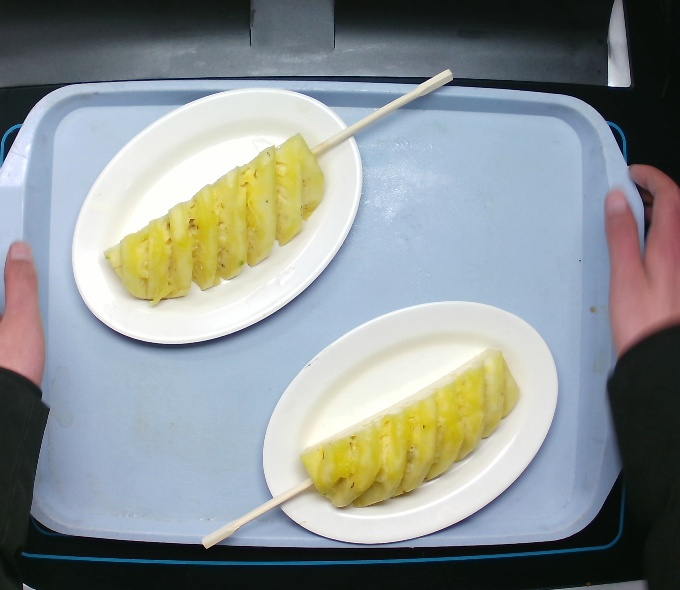wcq-BoLuo: (100, 127, 329, 311), (298, 342, 525, 516)
